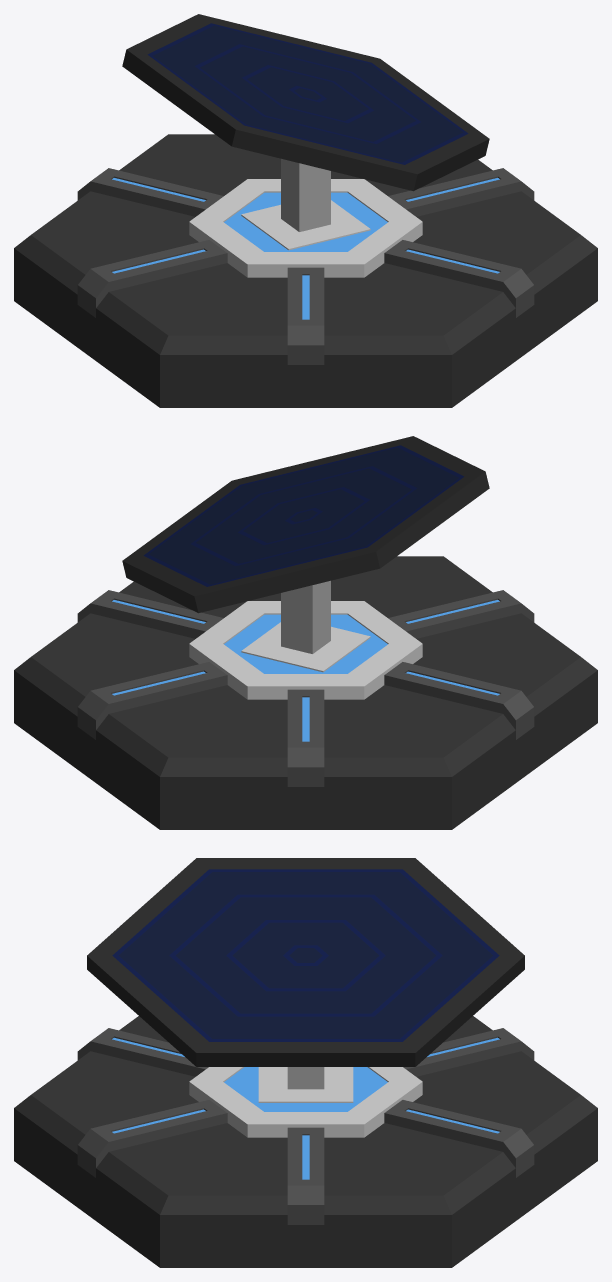
Rendered from SolarPanel_TD_3.fbx.
The picture shows the model from 3 angles, top to bottom: view 1: azimuth 30°, elevation 25°; view 2: azimuth 150°, elevation 25°; view 3: azimuth 270°, elevation 25°; orthographic projection.
Parts seen in each view (by area): view 1: Cylinder.004, Cylinder.005; view 2: Cylinder.004, Cylinder.005; view 3: Cylinder.004, Cylinder.005.
Boxes of the visible parts, left/top/right/bottom form: Cylinder.004: left=14, top=134, right=597, bottom=407; Cylinder.005: left=122, top=14, right=489, bottom=191; Cylinder.004: left=14, top=556, right=597, bottom=829; Cylinder.005: left=122, top=436, right=489, bottom=613; Cylinder.004: left=14, top=1016, right=597, bottom=1267; Cylinder.005: left=87, top=858, right=524, bottom=1066.
Size of the model in its own units: 693 by 366 by 800.
